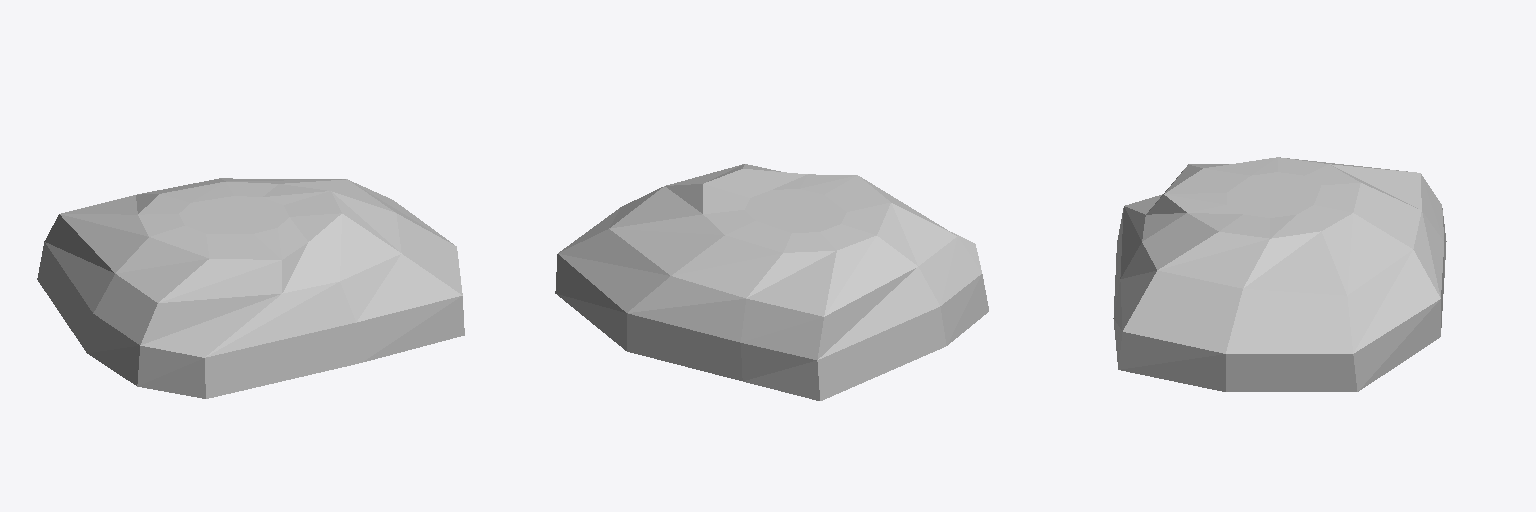
The model's file is Rock1.obj.
3 views of the same model, side by side, from view 1: azimuth 30°, elevation 25°; view 2: azimuth 150°, elevation 25°; view 3: azimuth 270°, elevation 25° (orthographic).
Parts seen in each view (by area): view 1: pasted__pasted__pSphere4 pasted__pasted__pSphere1SmoothProxyGrou; view 2: pasted__pasted__pSphere4 pasted__pasted__pSphere1SmoothProxyGrou; view 3: pasted__pasted__pSphere4 pasted__pasted__pSphere1SmoothProxyGrou.
Boxes of the visible parts, box(x1,y1,x2,y2) form: pasted__pasted__pSphere4 pasted__pasted__pSphere1SmoothProxyGrou: box(37, 178, 464, 398); pasted__pasted__pSphere4 pasted__pasted__pSphere1SmoothProxyGrou: box(555, 164, 988, 400); pasted__pasted__pSphere4 pasted__pasted__pSphere1SmoothProxyGrou: box(1113, 157, 1446, 391).
Size of the model in its own units: 10.55 by 2.99 by 8.75.